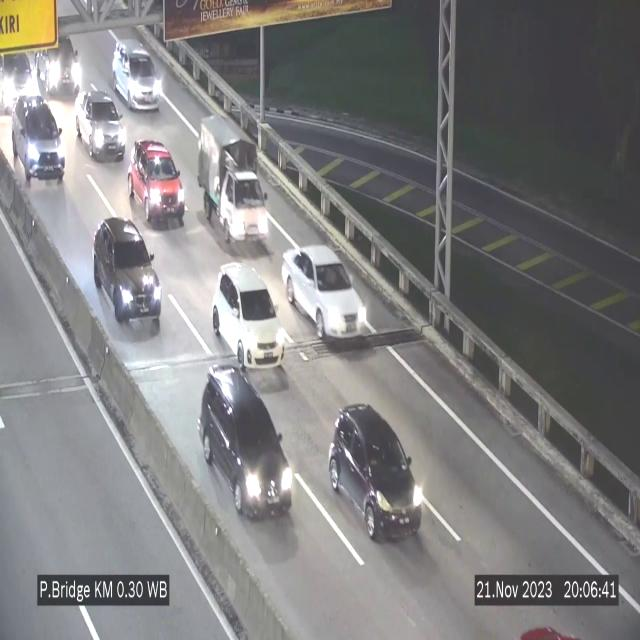Car: (198, 364, 294, 535), (327, 398, 424, 548), (282, 247, 370, 341), (94, 218, 162, 333), (212, 262, 284, 370), (11, 93, 67, 186), (129, 140, 185, 227), (74, 87, 126, 159), (112, 40, 162, 110), (32, 21, 78, 95), (0, 43, 40, 104)
Truck: (197, 114, 271, 244)
